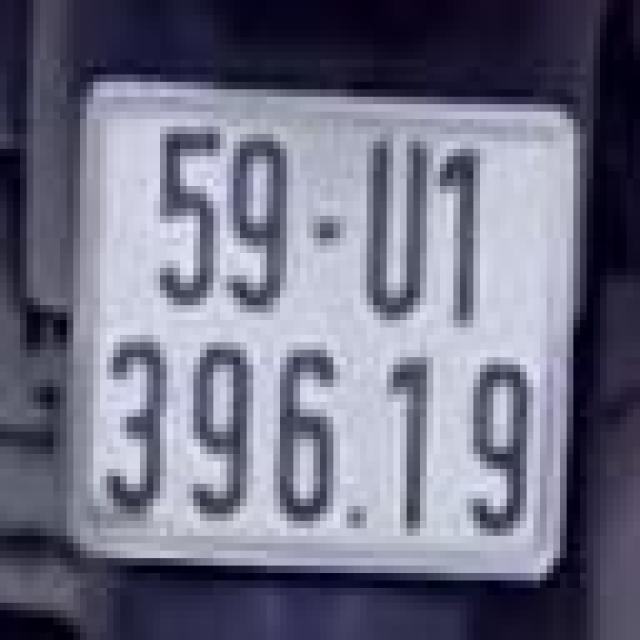1: (376, 342, 436, 544), (430, 134, 490, 327)
3: (90, 320, 170, 521)
5: (137, 123, 223, 324)
6: (270, 335, 350, 521)
9: (453, 350, 547, 550), (227, 130, 293, 331), (190, 339, 257, 532)
U: (347, 126, 433, 335)
